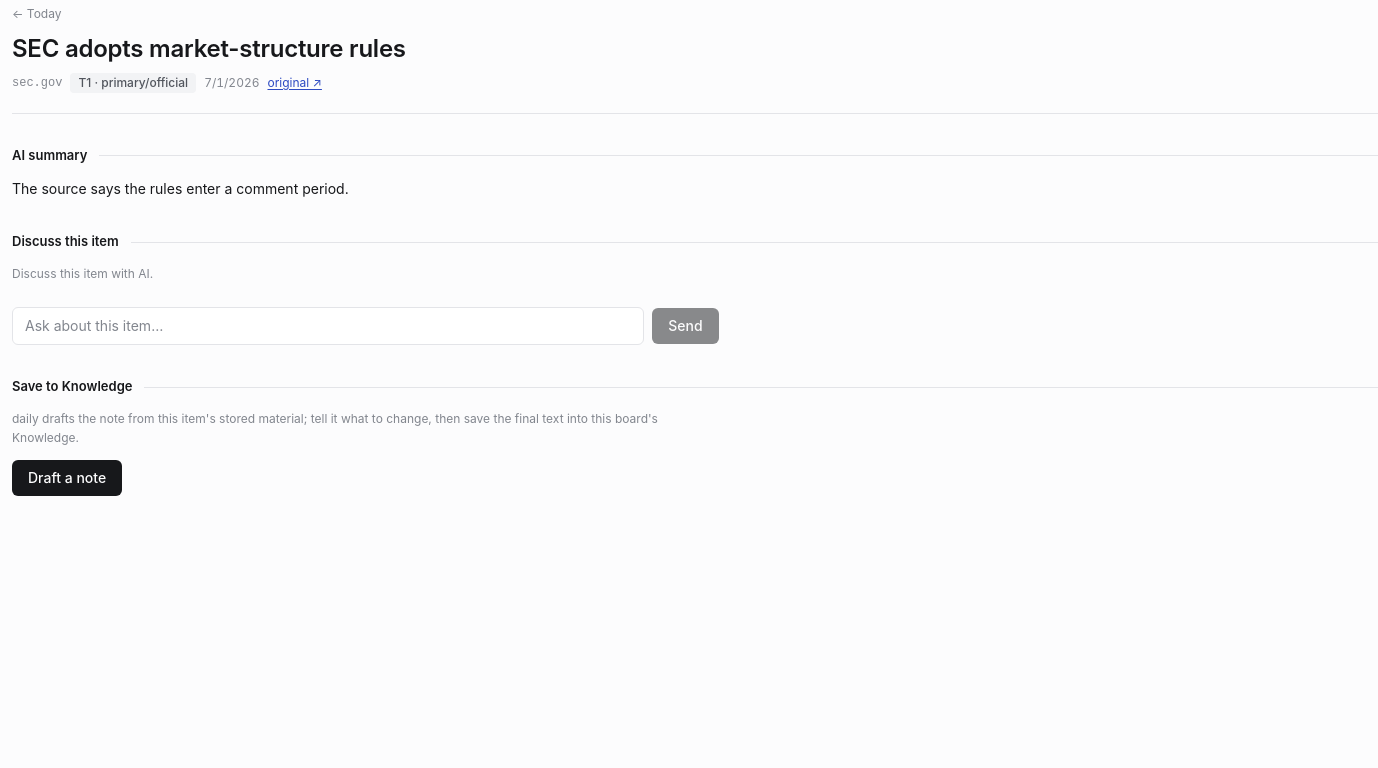
Test: ItemDetailView (M16.4) › drafts the note with the LLM, revises it through chat, saves only on click (2026-07-13)
The width and height of the screenshot is (1378, 768).
Note: the user asks daily for the initial curated draft
Click the button "Draft a note".
click(67, 478)  # box [12,460,122,496]
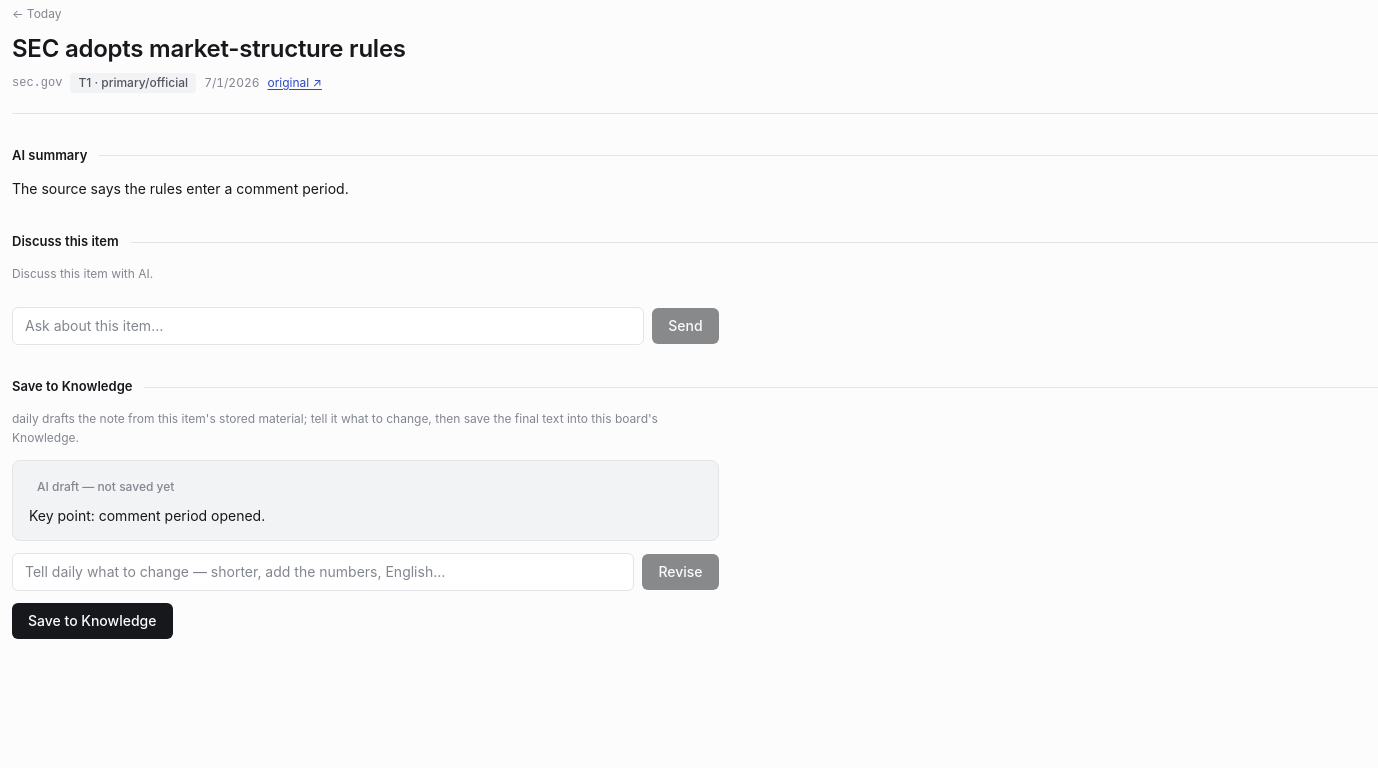
Result: the text "Key point: comment period opened." is shown at [29,507,265,524]
Result: the text "AI draft — not saved yet" is shown at [29,477,182,497]
Note: a chat revision — the earlier draft + the instruction travel along
Replace the text in the field named "How should the draft change" with "mention the effective date" at (323, 572), box [12,552,634,590]
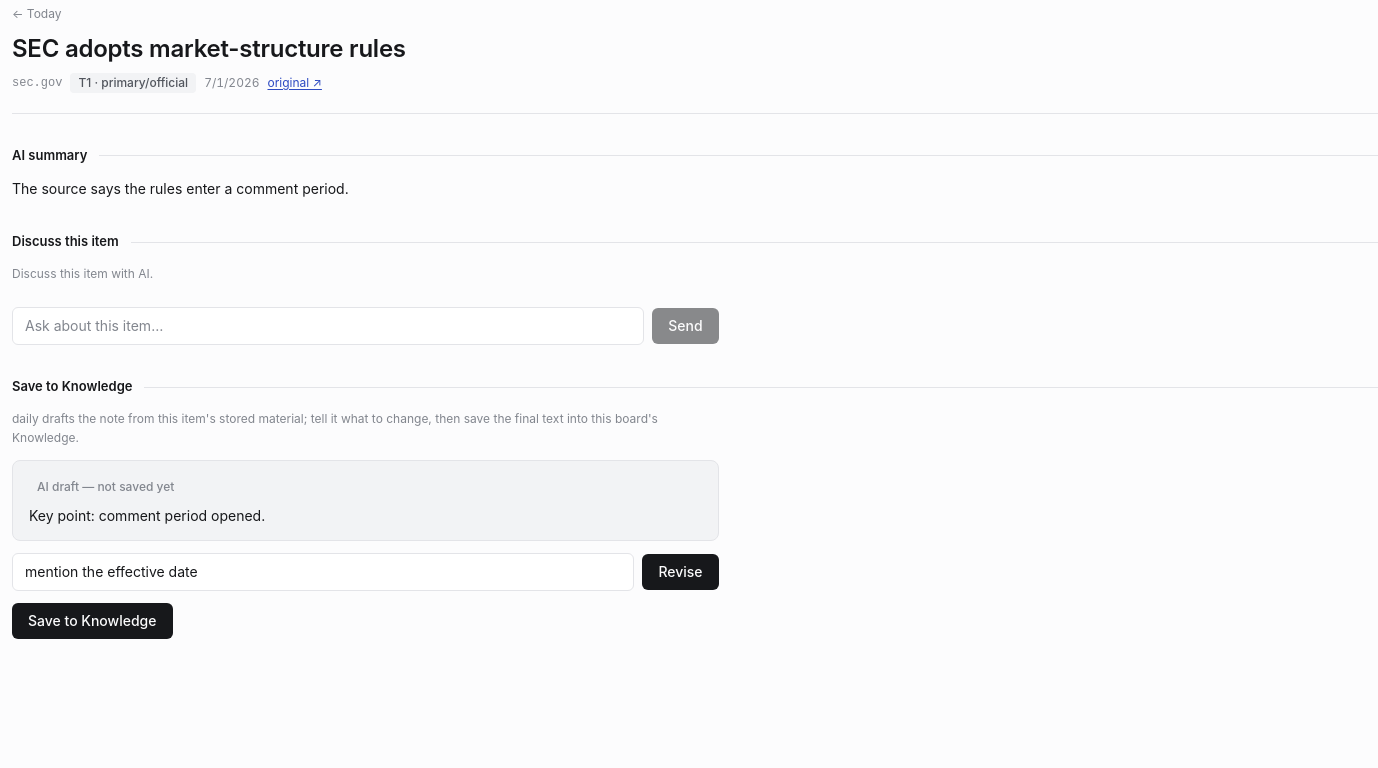
Click the button "Revise".
click(680, 572)  # box [642,554,719,590]
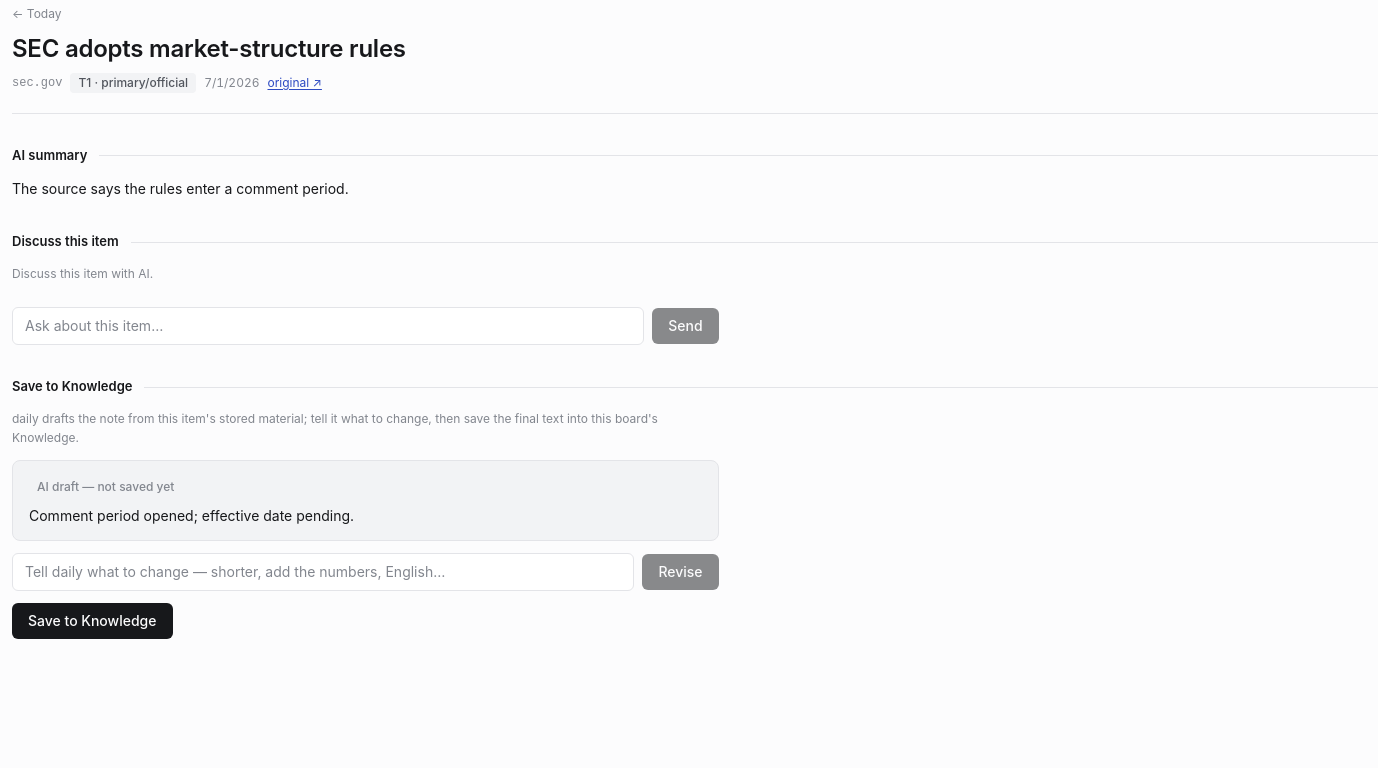
Result: the text "Comment period opened; effective date pending." is shown at [29,507,354,524]
Note: only the explicit click saves — the CURRENT draft, as a user_note
Click the button "Save to Knowledge".
click(92, 620)  # box [12,602,172,638]
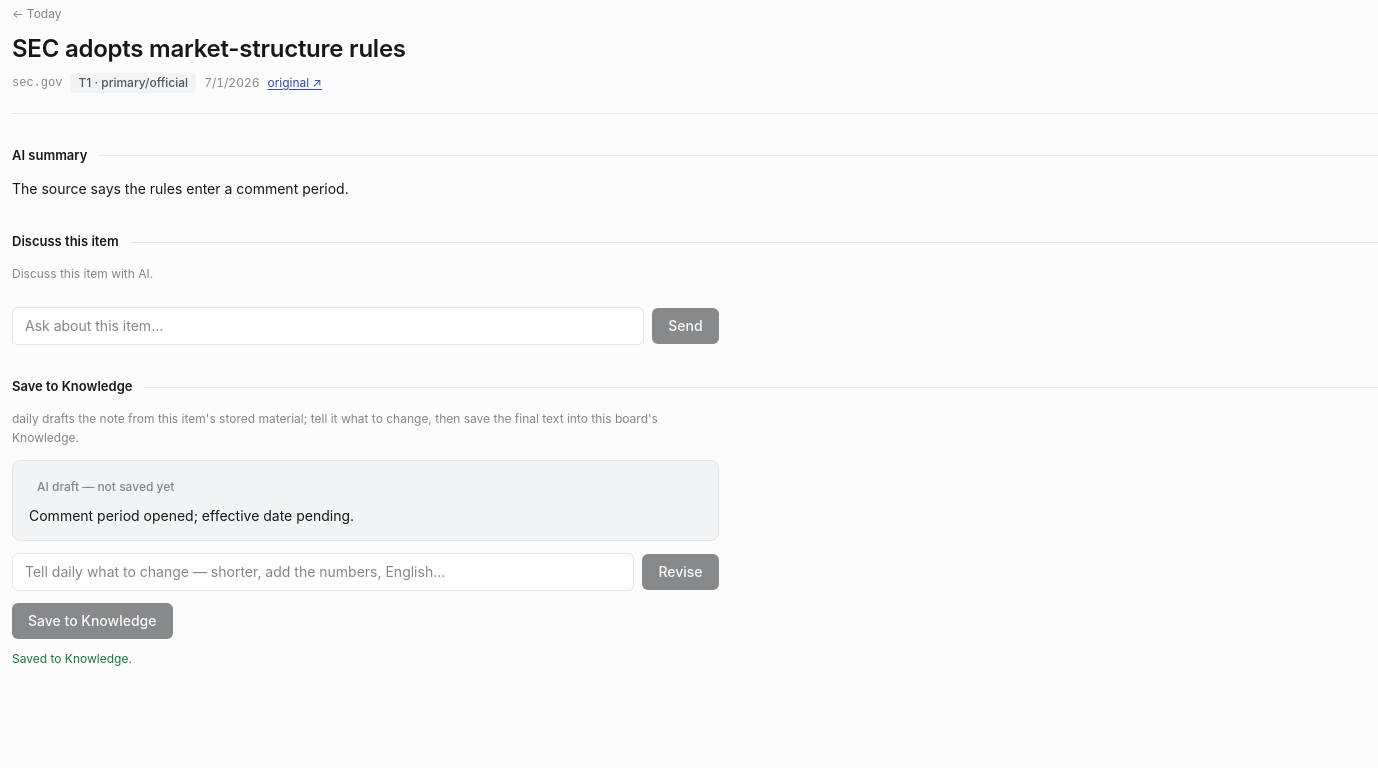
Result: the text "Saved to Knowledge." is shown at [12,650,132,666]
